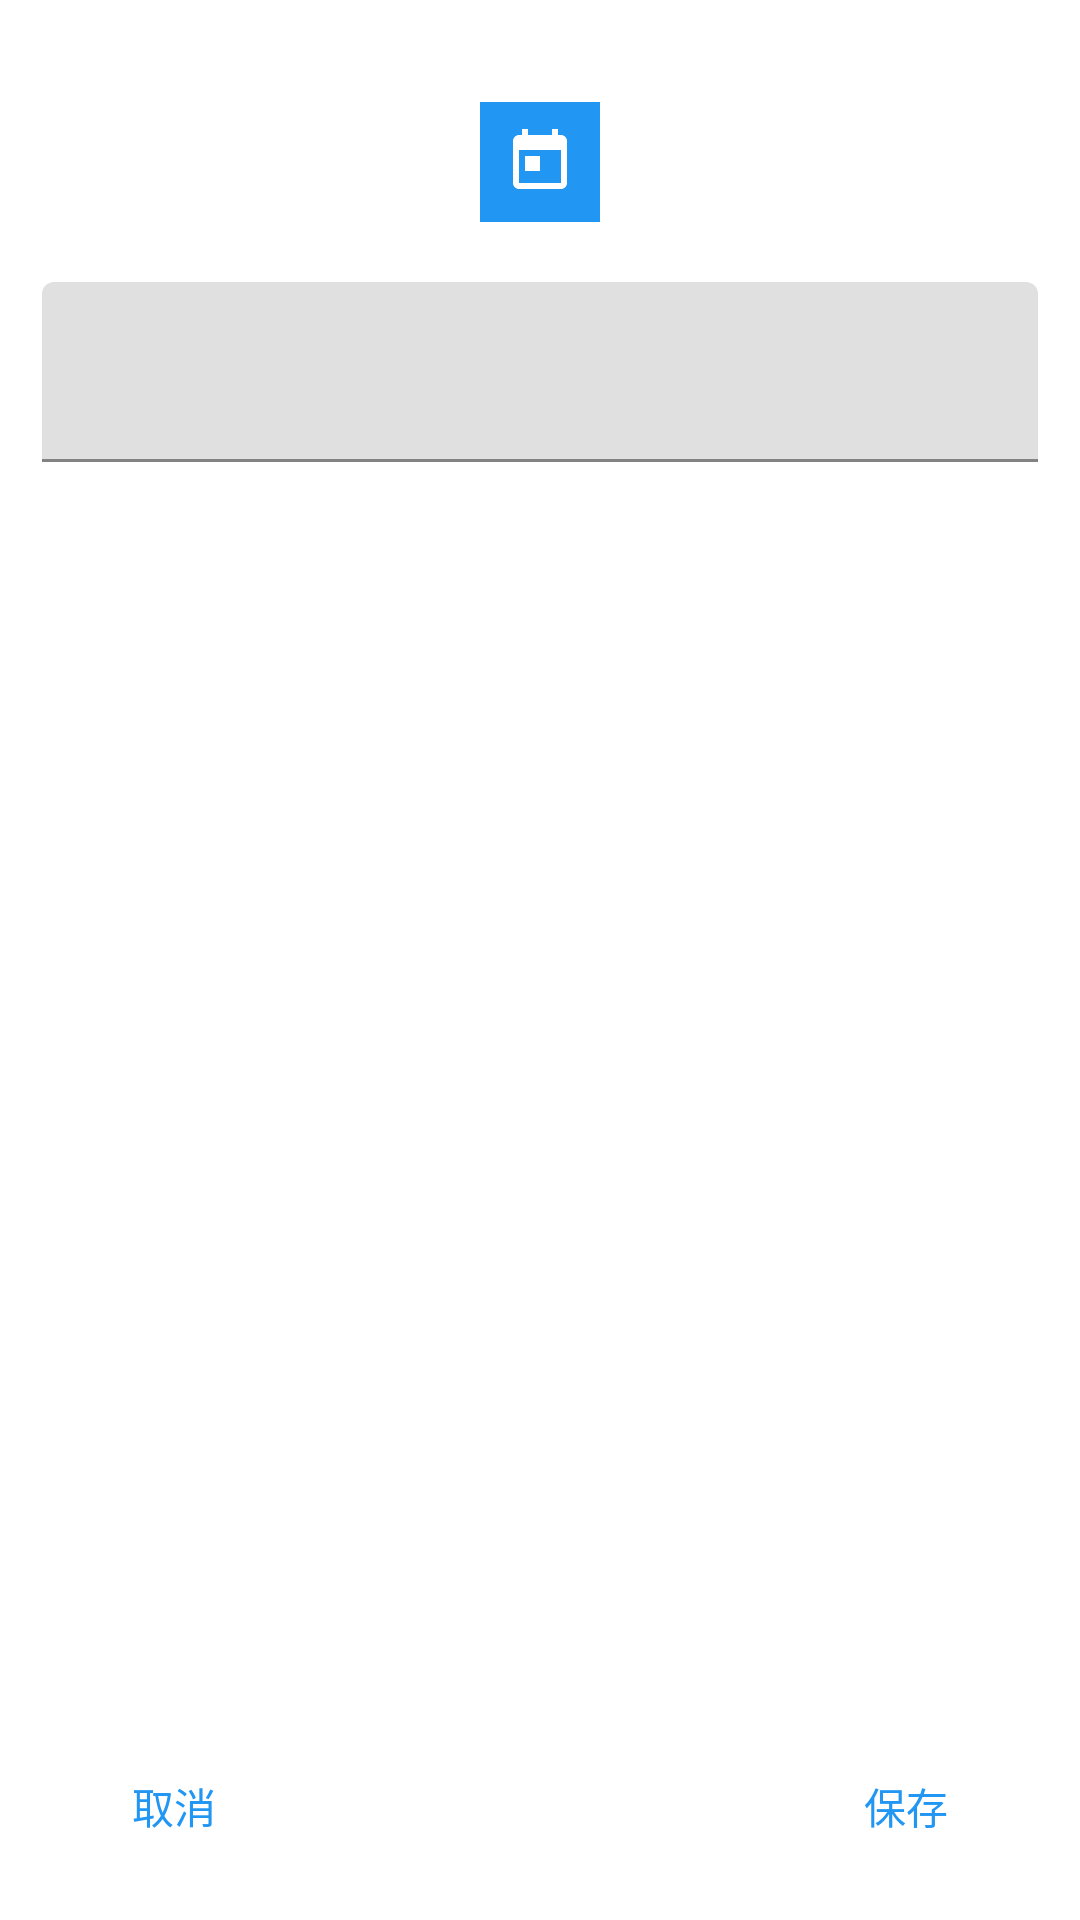

Named icons in this screenshot (1080*1920) and their bounding boxes, rect(x1, y1, x2, y2):
today: rect(480, 102, 600, 222)
